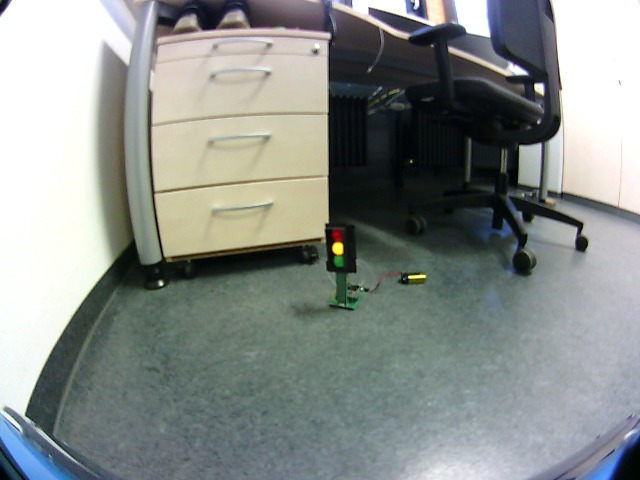yellow trafficlight: (327, 226, 349, 270)
